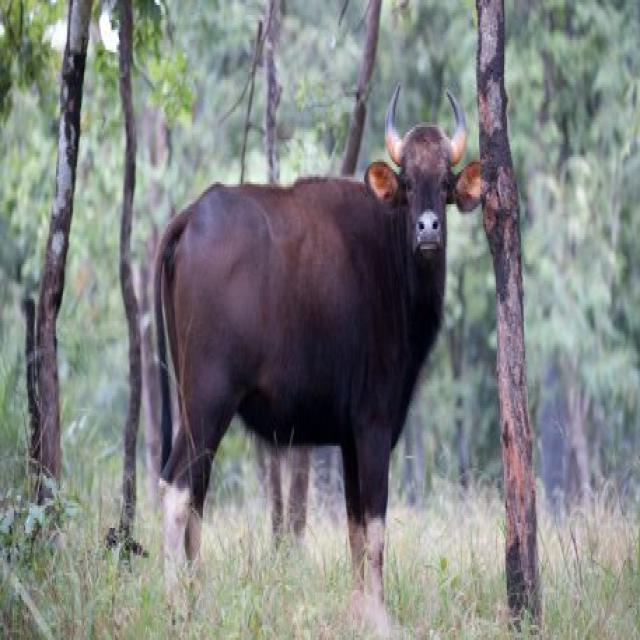Ox: (140, 79, 497, 602)
